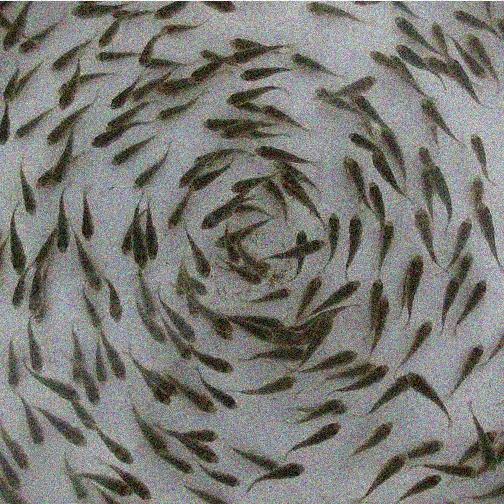fry: (407, 366, 451, 408), (295, 417, 345, 453), (108, 133, 155, 170), (367, 450, 407, 493), (131, 415, 172, 456), (128, 151, 167, 191), (13, 159, 38, 221), (403, 250, 426, 317), (356, 417, 394, 457), (471, 202, 503, 249), (253, 141, 313, 166), (73, 191, 103, 241), (418, 93, 451, 138), (50, 198, 73, 258), (182, 231, 212, 277), (24, 318, 48, 375), (373, 372, 406, 413), (47, 143, 76, 189), (75, 250, 106, 293), (203, 308, 240, 344), (103, 333, 130, 382), (183, 59, 230, 87), (191, 143, 243, 168), (303, 2, 359, 25), (314, 78, 347, 117), (198, 345, 237, 378), (466, 417, 499, 456), (34, 376, 82, 402), (375, 216, 402, 262), (400, 470, 446, 497), (66, 328, 87, 387), (369, 46, 404, 81), (60, 461, 89, 503), (353, 87, 385, 125), (97, 434, 136, 465), (308, 309, 337, 350), (411, 204, 438, 248), (263, 103, 305, 131), (7, 228, 31, 276), (250, 372, 298, 396), (433, 168, 459, 212), (43, 44, 81, 74), (103, 279, 128, 324), (28, 268, 50, 319), (457, 343, 485, 383), (124, 469, 159, 501), (144, 365, 181, 395), (366, 175, 389, 223), (468, 276, 497, 314), (56, 72, 84, 111), (221, 84, 273, 105), (439, 275, 463, 320), (22, 405, 47, 448), (341, 152, 367, 193), (278, 238, 324, 261), (475, 429, 499, 473), (28, 232, 55, 271), (408, 430, 447, 457), (4, 436, 34, 471), (253, 284, 296, 308), (431, 461, 480, 482), (132, 217, 150, 274), (302, 393, 343, 418), (287, 51, 331, 74), (322, 206, 345, 250), (86, 468, 126, 493), (54, 422, 91, 449), (85, 128, 130, 150), (92, 338, 110, 393), (3, 338, 22, 390), (315, 347, 359, 369), (347, 212, 367, 260), (154, 71, 187, 100), (423, 18, 452, 51), (380, 124, 408, 158), (80, 290, 105, 328), (452, 212, 475, 253), (12, 113, 48, 139), (170, 313, 201, 343), (40, 118, 72, 147), (394, 37, 427, 65), (182, 421, 222, 444), (276, 460, 316, 483), (212, 384, 246, 411), (3, 275, 27, 313), (243, 446, 278, 472), (97, 108, 133, 133), (197, 199, 228, 228), (377, 295, 393, 351), (100, 84, 133, 111), (189, 170, 226, 194), (187, 389, 221, 415), (238, 63, 280, 84), (470, 131, 491, 173), (133, 31, 158, 66), (248, 249, 277, 279), (276, 168, 303, 200), (206, 465, 242, 489), (1, 20, 22, 61), (225, 171, 266, 192), (445, 56, 471, 89), (162, 197, 188, 230), (262, 346, 307, 365), (187, 485, 232, 504), (329, 277, 363, 302), (140, 380, 169, 409), (221, 121, 263, 141), (156, 100, 192, 123), (452, 6, 488, 29), (266, 179, 289, 215), (87, 47, 138, 63), (369, 271, 386, 319), (137, 281, 159, 318), (185, 439, 220, 462), (359, 363, 391, 388), (1, 460, 25, 493), (292, 166, 326, 189), (143, 318, 169, 348), (484, 336, 504, 375), (15, 64, 40, 95), (412, 321, 434, 356), (97, 18, 121, 50), (66, 3, 108, 21), (174, 164, 202, 191), (244, 323, 275, 347), (166, 454, 197, 478), (416, 175, 436, 212), (144, 221, 162, 262), (394, 18, 422, 44), (72, 403, 100, 429), (151, 3, 184, 25), (16, 34, 50, 55), (1, 69, 22, 103), (29, 162, 52, 193), (171, 334, 194, 365), (347, 129, 375, 154), (234, 267, 262, 292), (203, 2, 244, 19), (472, 482, 504, 503), (343, 75, 380, 93), (465, 53, 487, 83), (113, 6, 156, 21), (131, 78, 154, 106), (301, 272, 324, 300), (225, 50, 265, 66), (169, 272, 189, 303), (421, 52, 443, 80), (194, 115, 230, 132), (1, 103, 14, 150), (213, 228, 243, 248), (467, 30, 490, 56), (459, 250, 477, 283), (119, 218, 133, 259), (194, 45, 224, 64), (468, 175, 488, 203), (91, 486, 122, 504), (160, 20, 197, 35), (228, 32, 257, 51), (278, 328, 308, 346), (151, 55, 183, 71), (343, 363, 375, 379), (237, 200, 267, 217), (189, 274, 212, 296), (333, 400, 353, 423), (413, 144, 434, 164), (182, 299, 202, 318), (395, 3, 419, 18), (292, 226, 309, 246), (52, 76, 69, 95), (227, 247, 240, 264)
